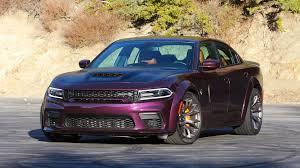windshield: (87, 38, 197, 75)
